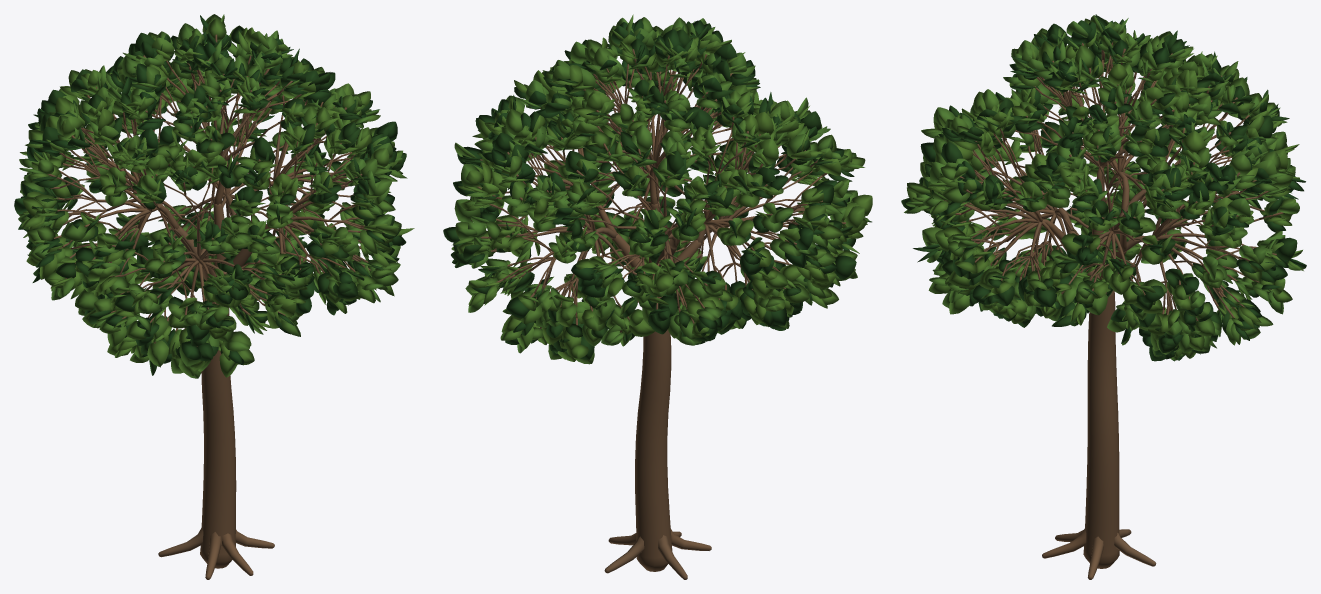
File: tree_garden.glb
The picture shows the model from 3 angles, left to right: view 1: azimuth 30°, elevation 25°; view 2: azimuth 150°, elevation 25°; view 3: azimuth 270°, elevation 25°; orthographic projection.
Visible parts, largest first — view 1: Sammel Pflanze, Sammel Holz; view 2: Sammel Pflanze, Sammel Holz; view 3: Sammel Pflanze, Sammel Holz.
Part boxes in pixels (x1=…): Sammel Pflanze: x1=14, y1=14, x2=414, y2=378; Sammel Holz: x1=47, y1=34, x2=384, y2=579; Sammel Pflanze: x1=443, y1=14, x2=872, y2=364; Sammel Holz: x1=471, y1=49, x2=845, y2=579; Sammel Pflanze: x1=901, y1=14, x2=1306, y2=361; Sammel Holz: x1=944, y1=42, x2=1283, y2=579.
Bounding box in the file's own units: 3.69 × 5.25 × 3.58.
